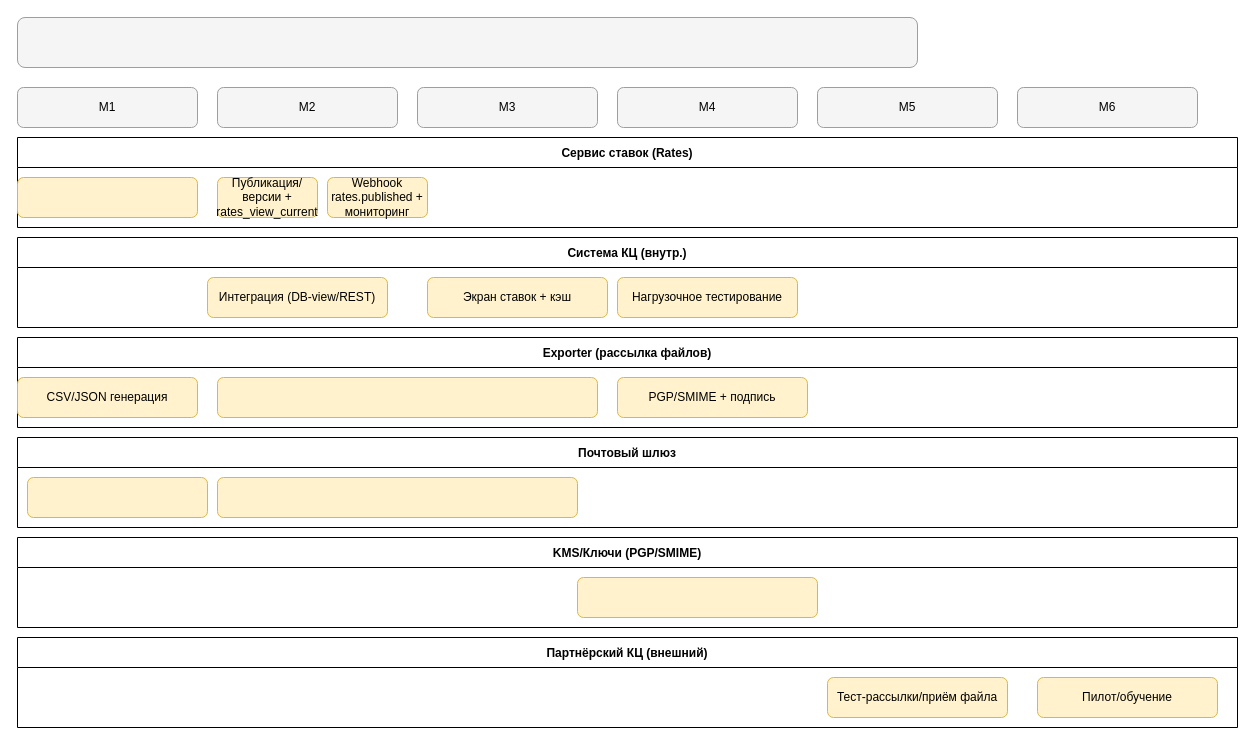
This 1255x745 diagram has some shape labels left out. The centre of each missing label's shape, as x and y in pixels:
Дорожная карта (6 месяцев MVP → Target 12м) — по системам: the point at 467,42
Ключи партнёра + ротация: the point at 697,597
Модель данных + импорт XLS: the point at 107,197
Мониторинг/алерты/runbooks: the point at 397,497
Рассылка + ретраи + отчёты: the point at 407,397
Учётка/лимиты: the point at 117,497
